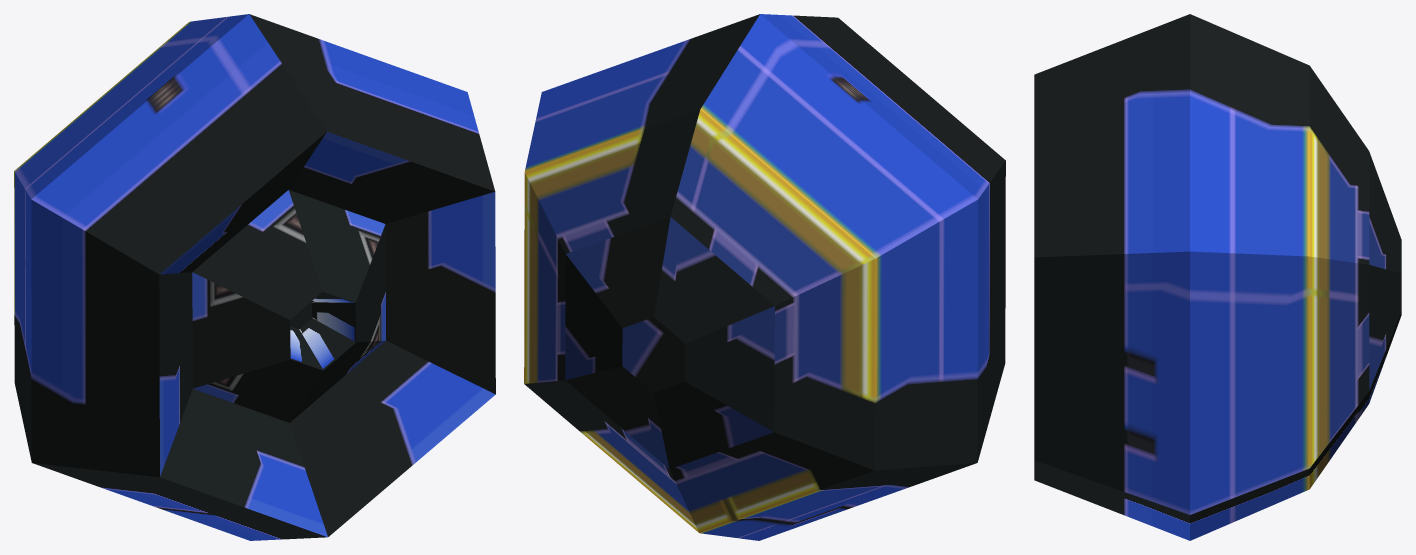
File: turretModel.obj
3 renders of one model, left to right at view 1: azimuth 30°, elevation 25°; view 2: azimuth 150°, elevation 25°; view 3: azimuth 270°, elevation 25°, orthographic.
Visible parts, largest first — view 1: Cylinder; view 2: Cylinder; view 3: Cylinder.
Part boxes in pixels (x1,y1,x2,y2): Cylinder: (14,14,495,540); Cylinder: (524,14,1005,540); Cylinder: (1034,14,1401,540).
Size of the model in its own units: 0.8094 by 0.9335 by 0.5899.
